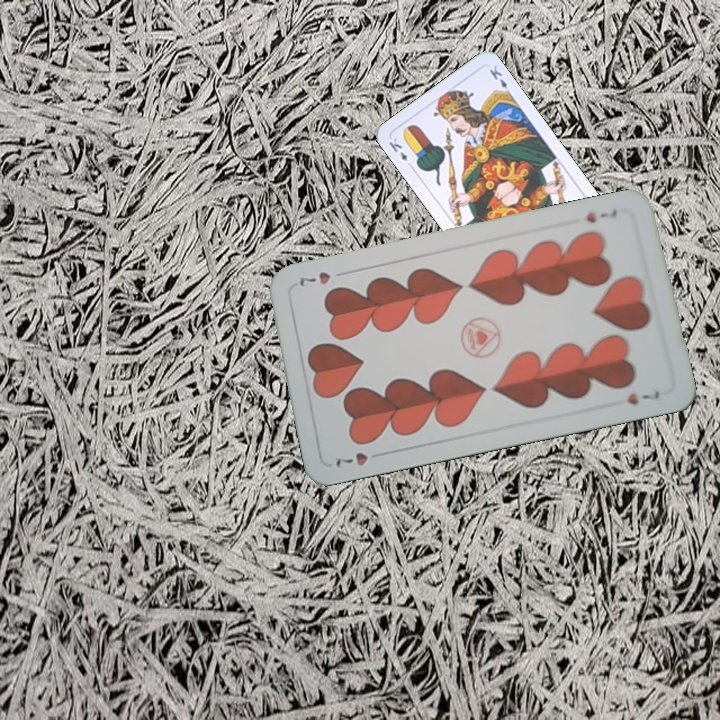EK: (385, 134, 416, 171)
H7: (331, 448, 387, 470), (581, 206, 620, 226)
